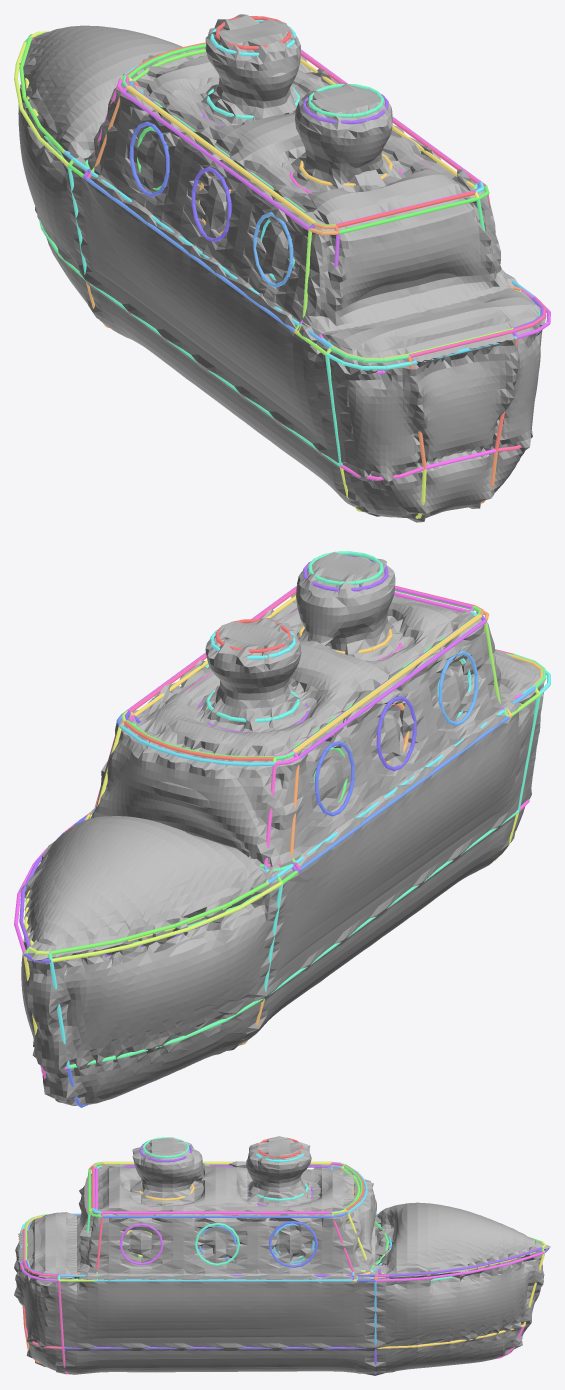
The model's file is onshape_boat.gltf.
3 renders of one model, top to bottom at view 1: azimuth 30°, elevation 25°; view 2: azimuth 150°, elevation 25°; view 3: azimuth 270°, elevation 25°, orthographic. The views are drawn at different scales.
Bounding box in the file's own units: 0.2571 × 0.4028 × 0.9008.
